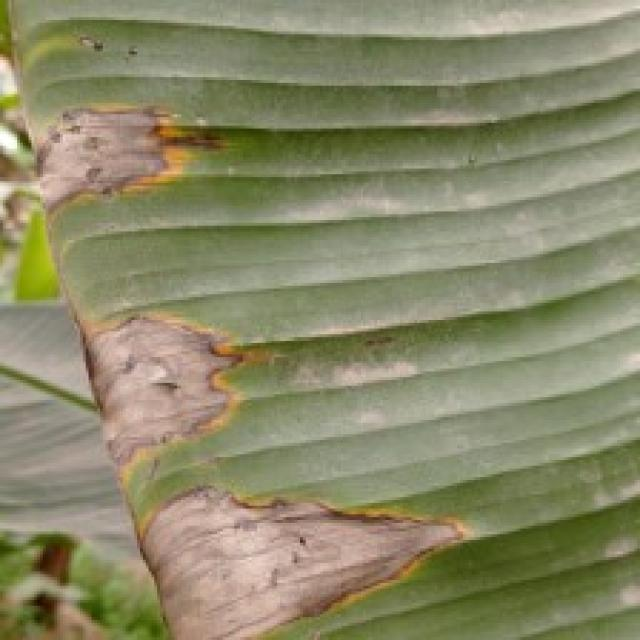Bacterial_spot: (133, 465, 475, 640), (76, 297, 255, 476), (12, 100, 245, 216), (59, 30, 156, 70), (338, 314, 405, 356)
